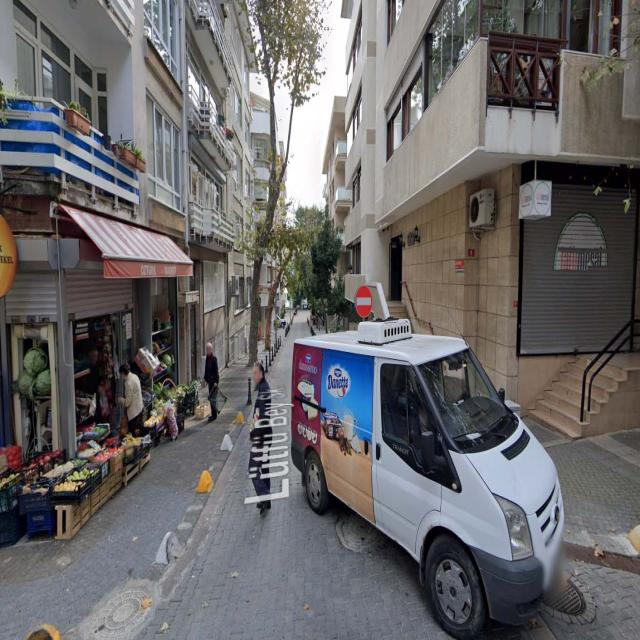girisyok: (355, 286, 372, 317)
